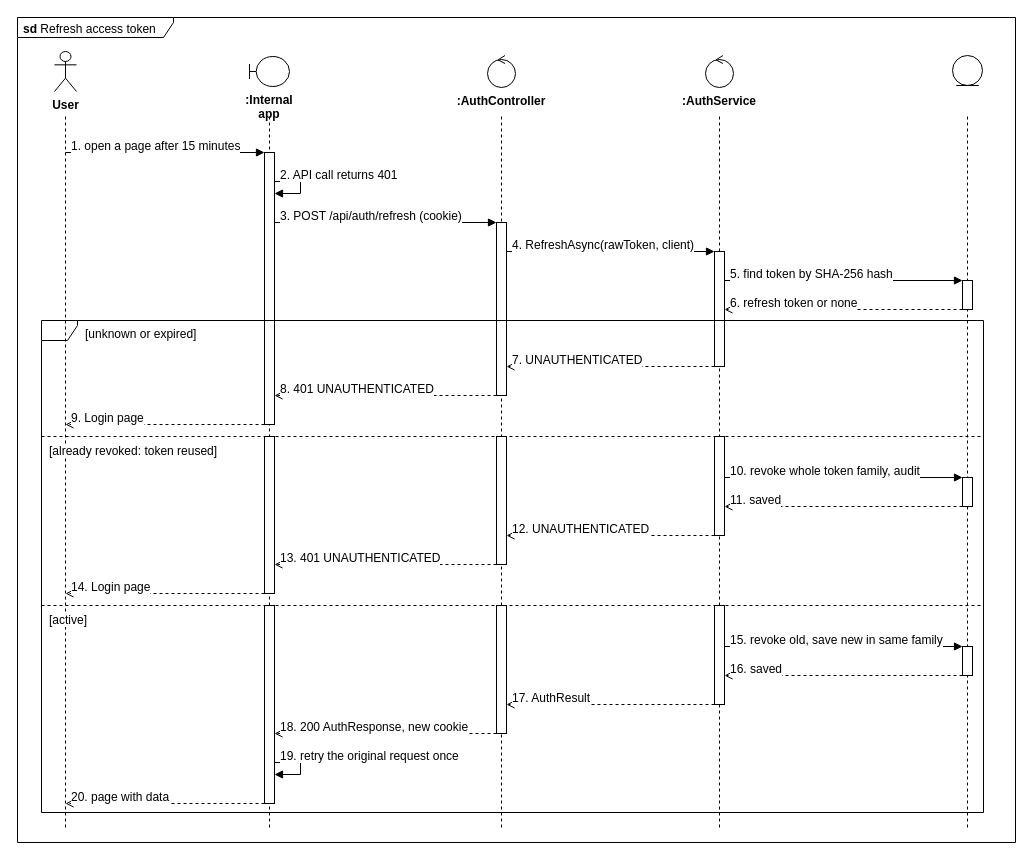
The diagram is 1033 pixels wide and 860 high, and some of its shapes have lost their labels. The box of each missing label's shape, as (x1, y1, x2, y2) in pixels:
:Database: (952, 54, 982, 86)
alt: (40, 320, 984, 812)
